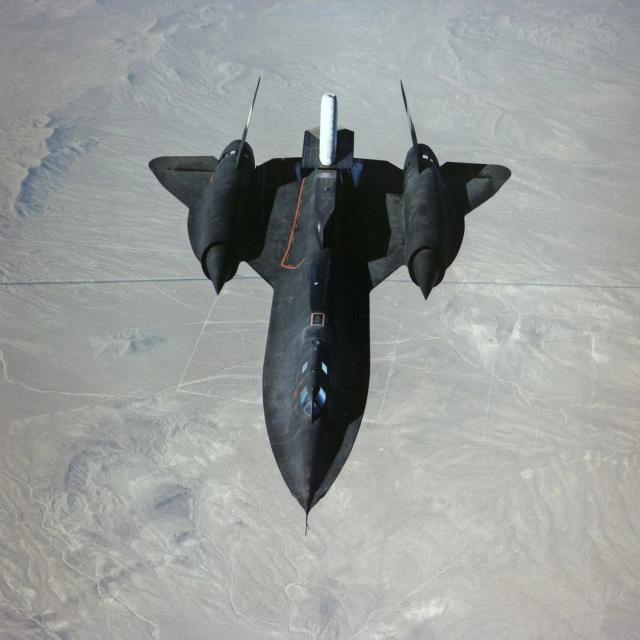MIL_Plane: (148, 76, 512, 537)
